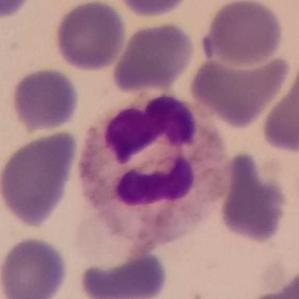Neutrophil: (70, 88, 240, 253)
RBC: (188, 46, 292, 128), (0, 128, 80, 228), (215, 149, 292, 245), (110, 19, 198, 94), (198, 0, 286, 68), (51, 0, 127, 72), (8, 66, 82, 133), (76, 248, 170, 299), (0, 234, 70, 299), (259, 66, 299, 162), (112, 0, 193, 19), (260, 267, 299, 299), (0, 0, 36, 21)
